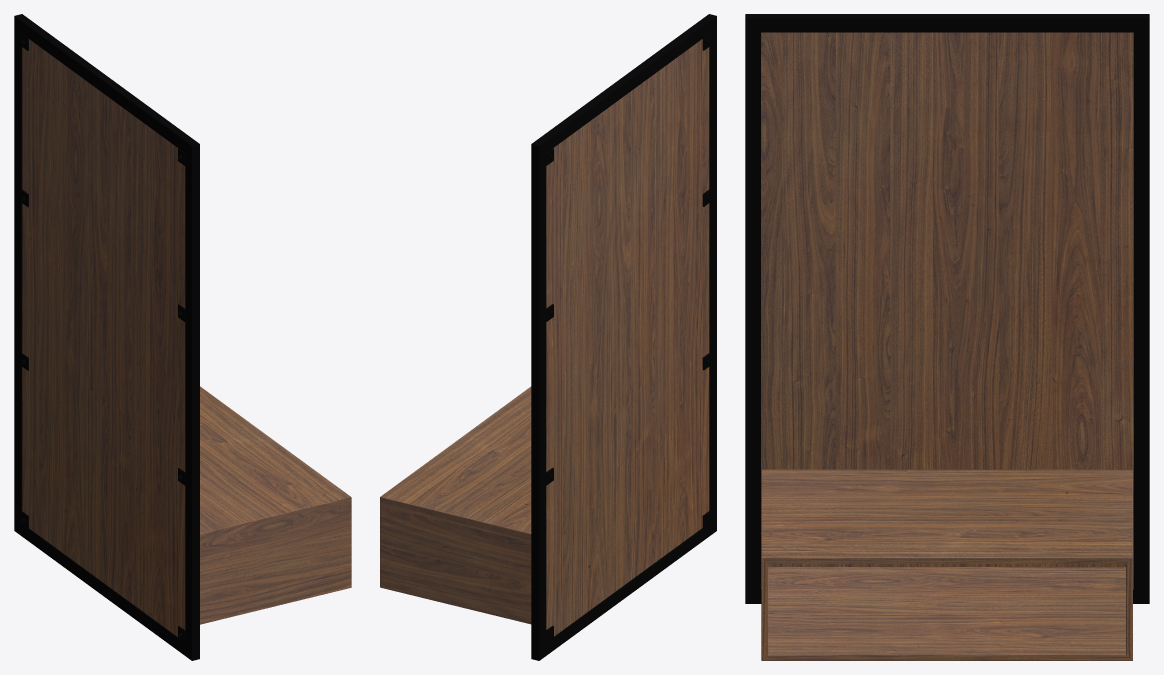
File: BedsidePanel.glb
3 renders of one model, left to right at view 1: azimuth 30°, elevation 25°; view 2: azimuth 150°, elevation 25°; view 3: azimuth 270°, elevation 25°, orthographic. The views are drawn at different scales.
Visible parts, largest first — view 1: wood, metal; view 2: wood, metal; view 3: wood, metal.
Boxes of the visible parts, x1=… form: wood: x1=22, y1=39, x2=351, y2=636; metal: x1=14, y1=14, x2=199, y2=660; wood: x1=380, y1=39, x2=709, y2=636; metal: x1=531, y1=14, x2=716, y2=660; wood: x1=761, y1=32, x2=1133, y2=660; metal: x1=745, y1=14, x2=1149, y2=603.
Size of the model in its own units: 0.3786 by 1.1 by 0.6879.
2 materials, 1 textured.
